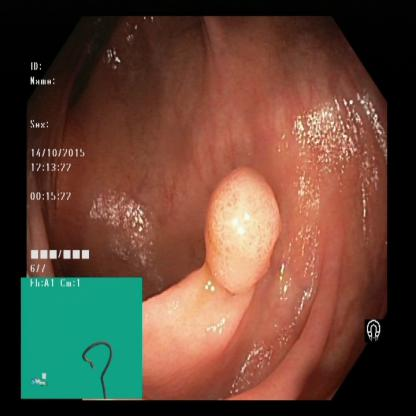Labels: (26, 60, 105, 276), (22, 276, 145, 395), (358, 313, 388, 347)
Polyps: (192, 166, 294, 302)
